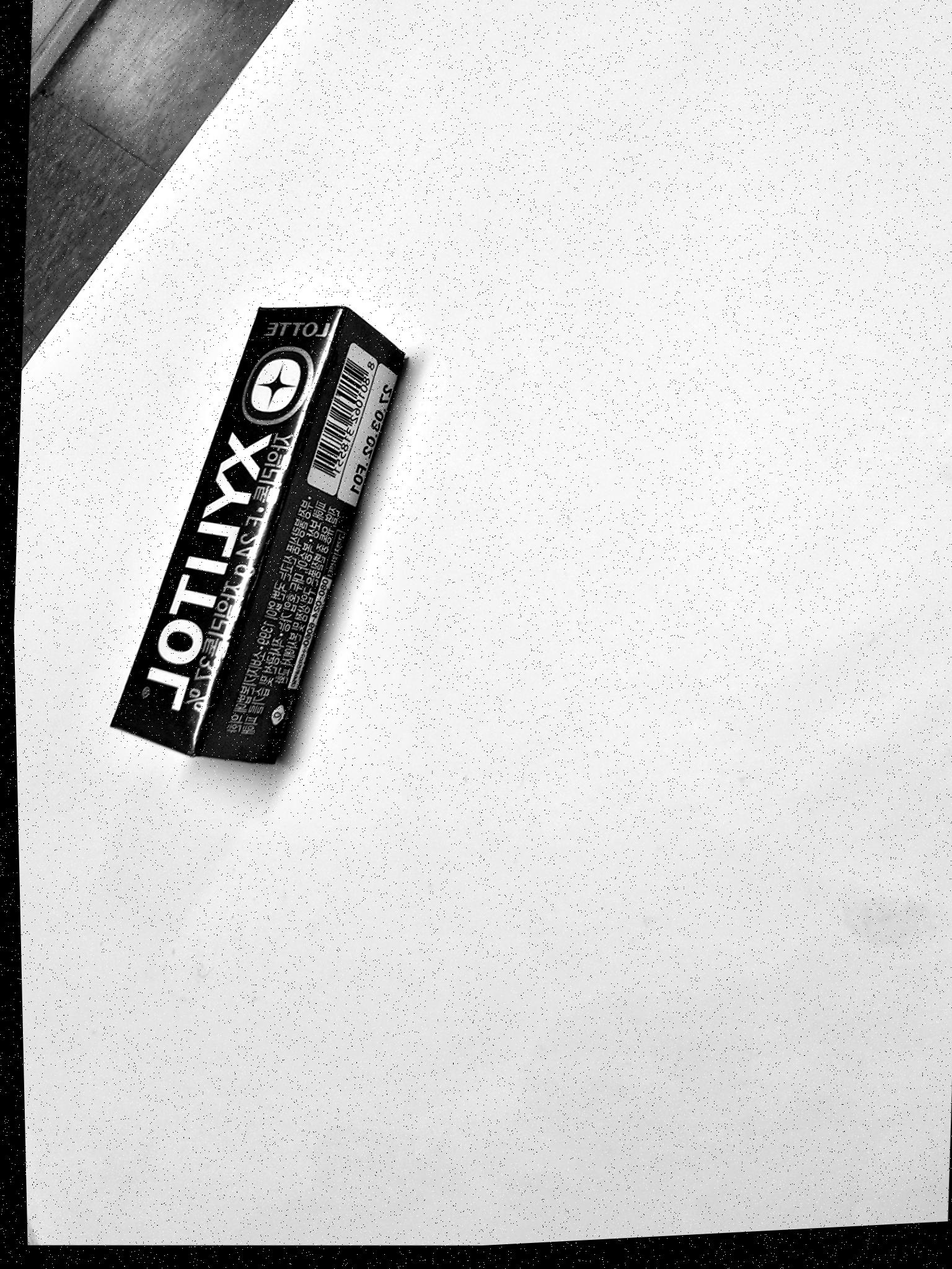gum_green: (112, 306, 402, 762)
